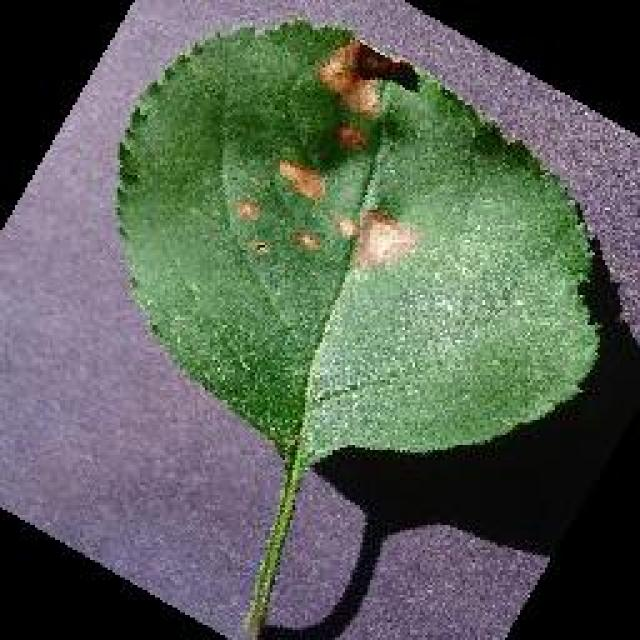Black_rot: (112, 18, 602, 638)
